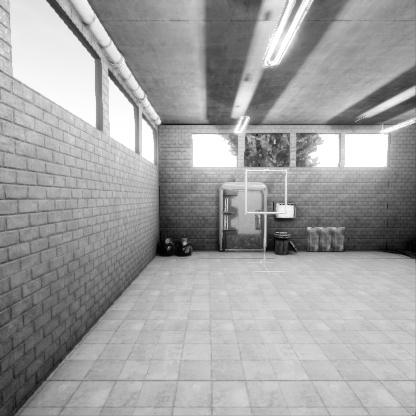gate: (245, 203, 289, 248)
